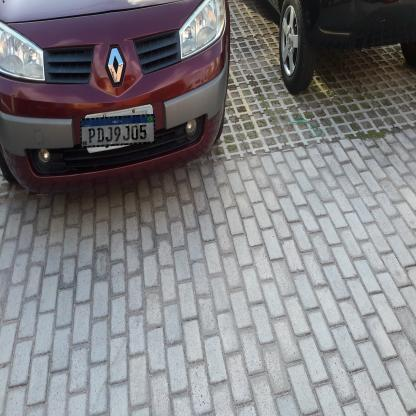PlacaM: (80, 114, 156, 148)
